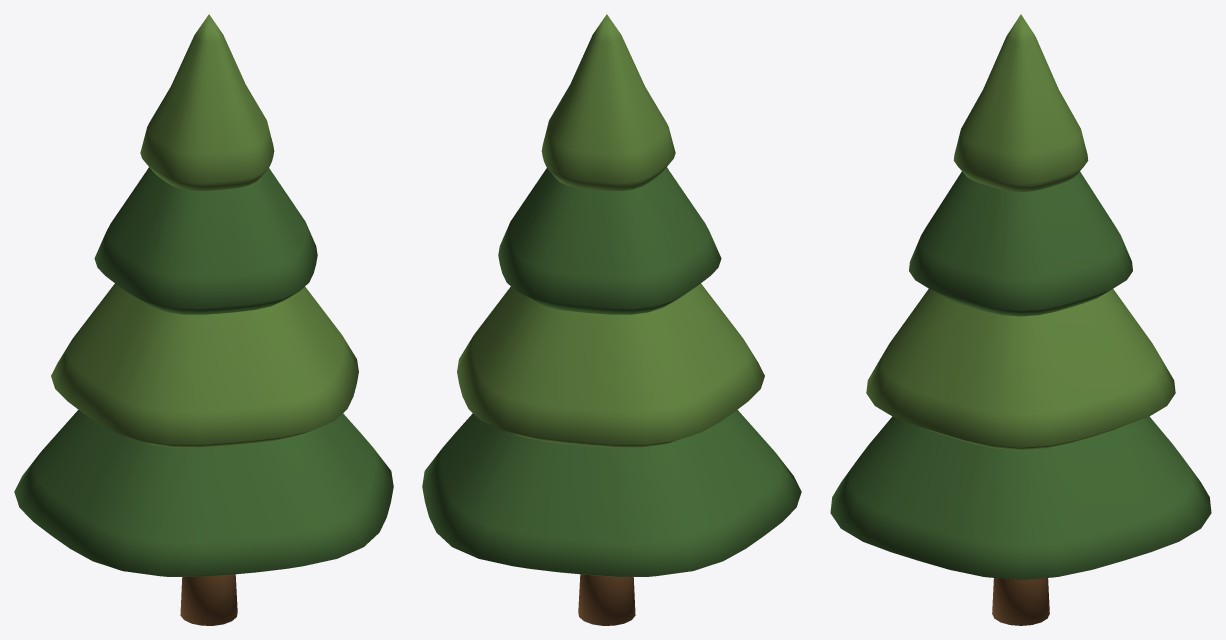
File: tall_pine.glb
3 views of the same model, side by side, from view 1: azimuth 30°, elevation 25°; view 2: azimuth 150°, elevation 25°; view 3: azimuth 270°, elevation 25° (orthographic).
Visible parts, largest first — view 1: PropGeometryGeometry; view 2: PropGeometryGeometry; view 3: PropGeometryGeometry.
Part boxes in pixels (x1,y1,x2,y2): PropGeometryGeometry: (14,14,393,625); PropGeometryGeometry: (422,14,801,625); PropGeometryGeometry: (830,14,1211,625).
Size of the model in its own units: 1.7 by 2.98 by 1.72.
